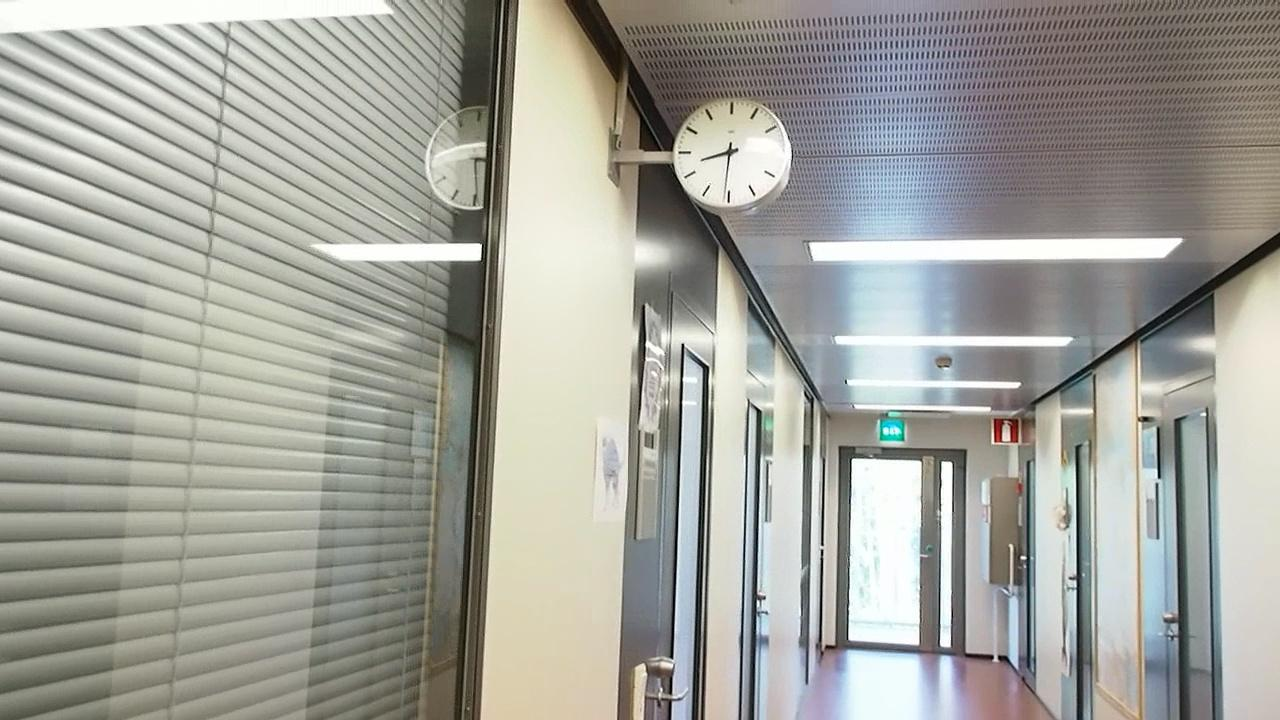clock: (673, 92, 799, 213)
